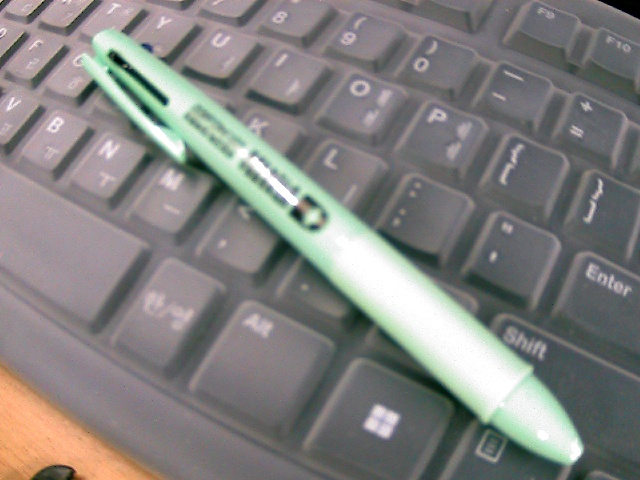pen: (84, 26, 592, 468)
